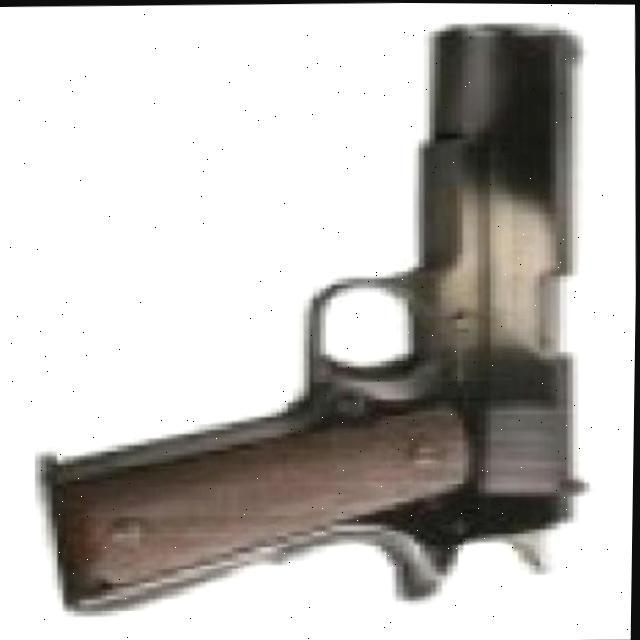gun: (38, 18, 616, 622)
